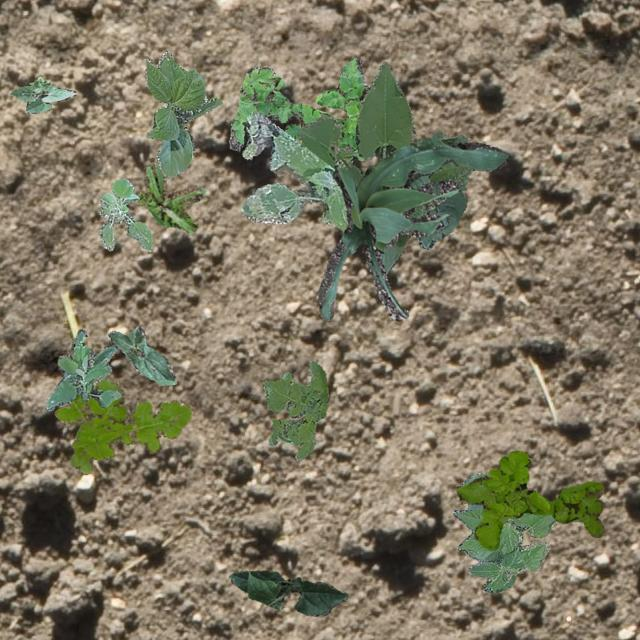crop: (297, 59, 473, 274), (316, 136, 506, 320), (452, 472, 556, 592), (144, 49, 222, 178), (228, 570, 348, 616), (108, 326, 176, 384), (10, 76, 76, 112)
weed: (228, 56, 370, 162), (456, 450, 604, 550), (54, 376, 192, 474), (240, 108, 348, 230), (262, 358, 328, 459), (44, 328, 120, 409), (136, 161, 204, 231), (98, 178, 152, 250)
